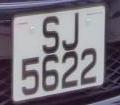2: (79, 44, 101, 89), (59, 50, 81, 92)
5: (18, 53, 42, 102)
6: (40, 53, 62, 96)
J: (59, 10, 83, 55)
S: (39, 13, 63, 58)
